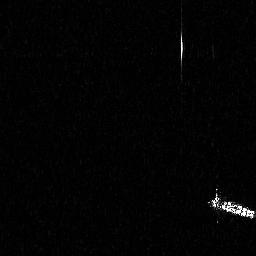ship: (205, 185, 256, 226)
